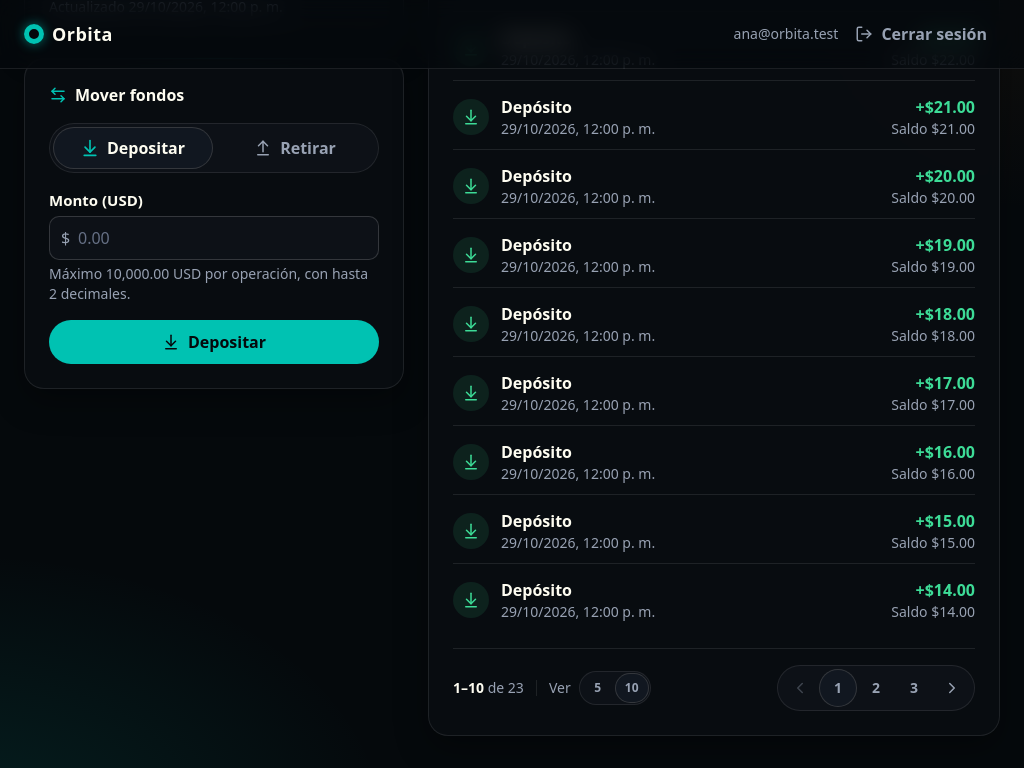
Test: balance screen states › changes the page size and goes back to page 1
(page scrolled)
What coordinates should you click on to do the following:
click the button named "Página 2"
I would click on:
 (876, 688)
Its box is [858, 670, 894, 706].
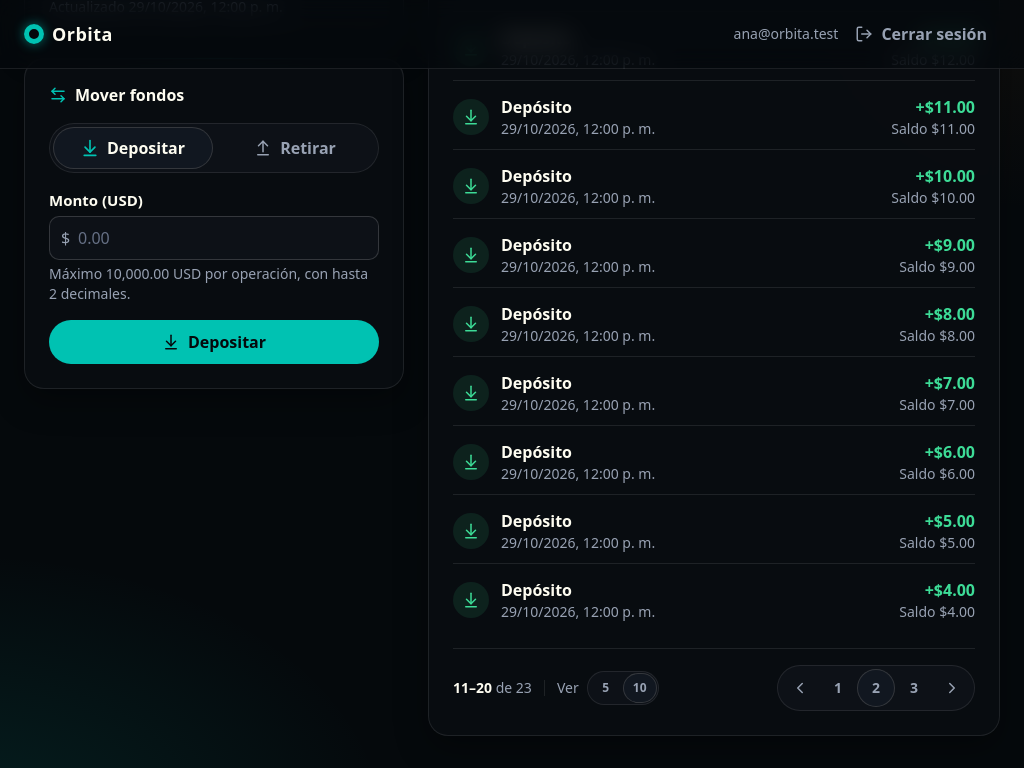
What coordinates should you click on to do the following:
click the button named "5 por página"
I would click on:
 (606, 688)
Its box is [590, 674, 622, 702].
(page scrolled)
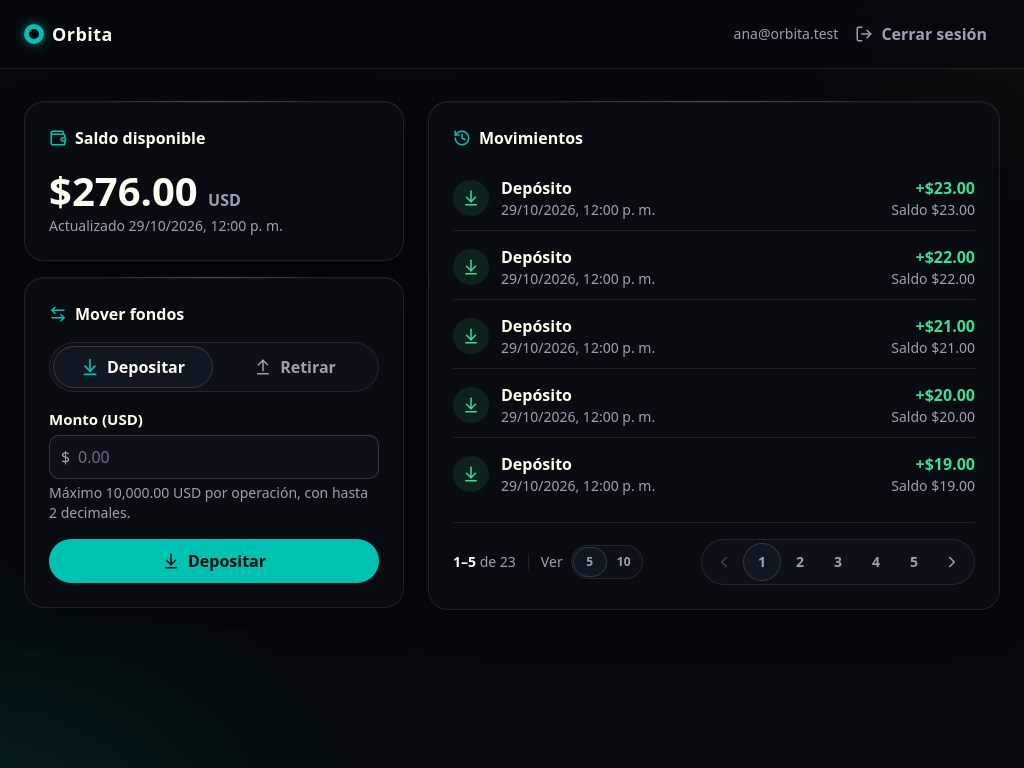
Expected: the button named "Página 5" is shown, [896, 544, 932, 580]
Expected: the navigation bar named "Paginación de movimientos" shows "1–5 de 23", [453, 522, 975, 585]
Expected: the number of list items is 5, [453, 166, 975, 231]; [453, 235, 975, 300]; [453, 304, 975, 369]; [453, 373, 975, 438]; [453, 442, 975, 506]
